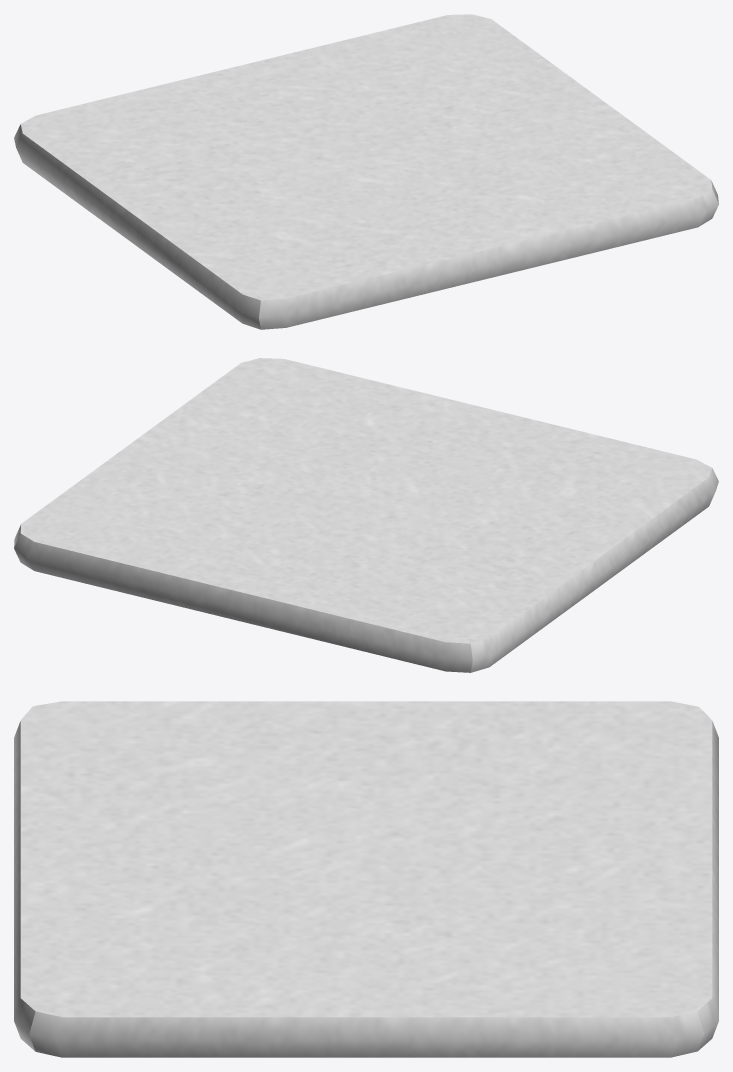
File: gauze piece1.FBX
3 views of the same model, one above another, from view 1: azimuth 30°, elevation 25°; view 2: azimuth 150°, elevation 25°; view 3: azimuth 270°, elevation 25° (orthographic). The views are drawn at different scales.
Parts seen in each view (by area): view 1: gauze piece1; view 2: gauze piece1; view 3: gauze piece1.
Part boxes in pixels (x1,y1,x2,y2): gauze piece1: (14, 14, 718, 329); gauze piece1: (14, 358, 718, 672); gauze piece1: (14, 701, 718, 1057).
Size of the model in its own units: 2.57 by 2.38 by 0.1508.
